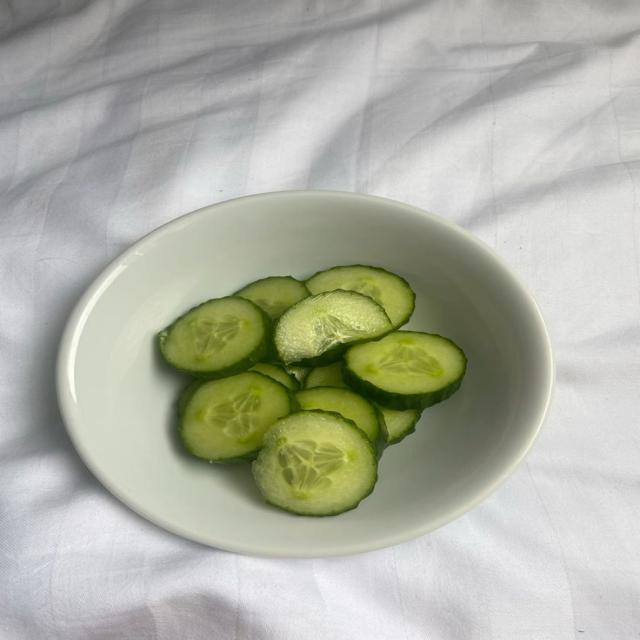cucumber sliced: (253, 411, 377, 516), (179, 372, 293, 463), (344, 331, 466, 410), (159, 297, 269, 379), (274, 290, 392, 365), (307, 265, 415, 328), (296, 387, 386, 446), (235, 276, 309, 319), (375, 404, 420, 444), (250, 363, 299, 390), (304, 362, 346, 388), (283, 365, 311, 386)
